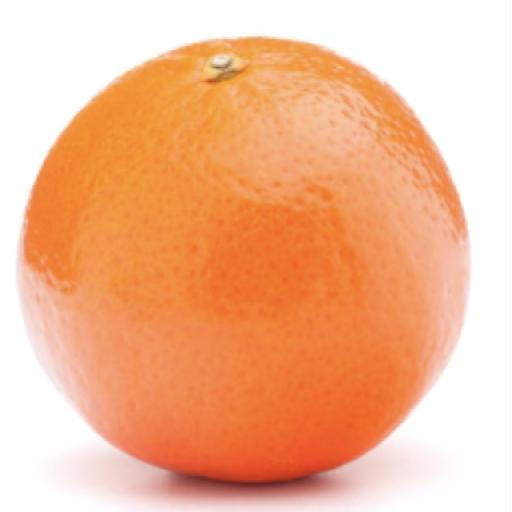orange: (19, 38, 467, 481)
